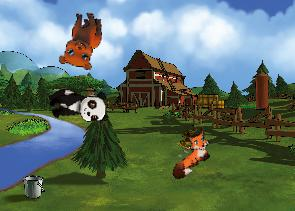bear: (58, 10, 102, 70)
fox: (158, 124, 220, 182)
panda: (47, 88, 108, 123)
